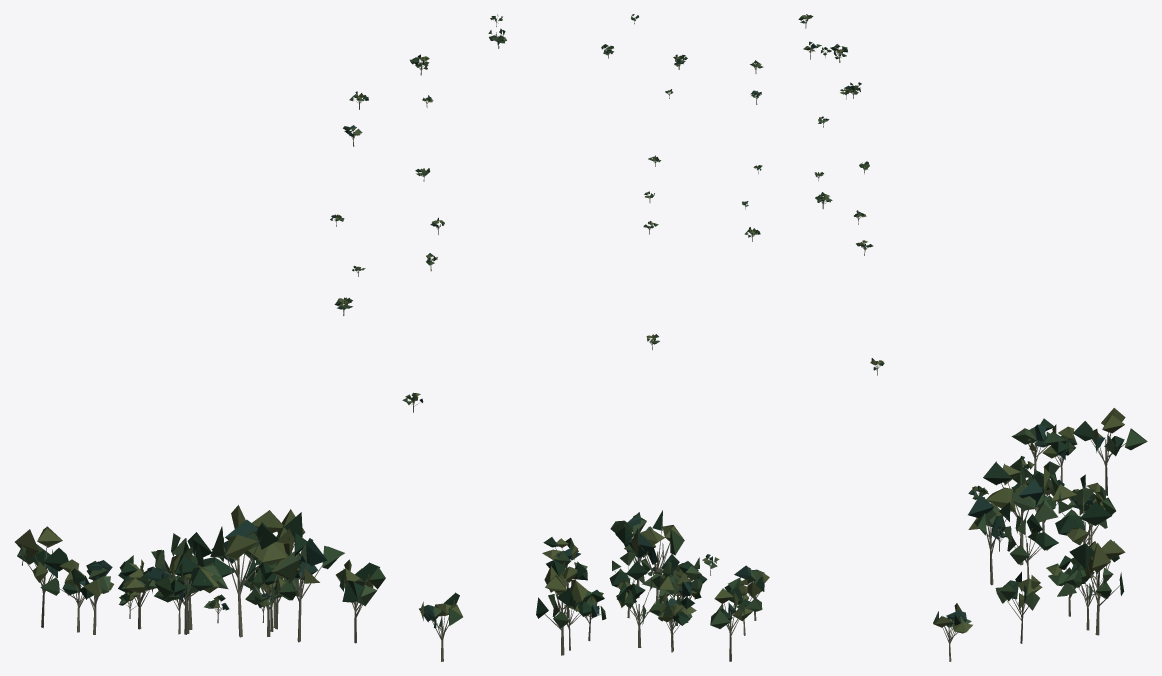
The model's file is forest_22_23.dae.
3 renders of one model, left to right at view 1: azimuth 30°, elevation 25°; view 2: azimuth 150°, elevation 25°; view 3: azimuth 270°, elevation 25°, orthographic. The views are drawn at different scales.
Parts seen in each view (by area): view 1: Node; view 2: Node; view 3: Node.
Part boxes in pixels (x1,y1,x2,y2): Node: (15, 14, 506, 661); Node: (536, 14, 769, 661); Node: (798, 14, 1147, 661).
Bounding box in the file's own units: 10.58 × 10.51 × 20.33.
